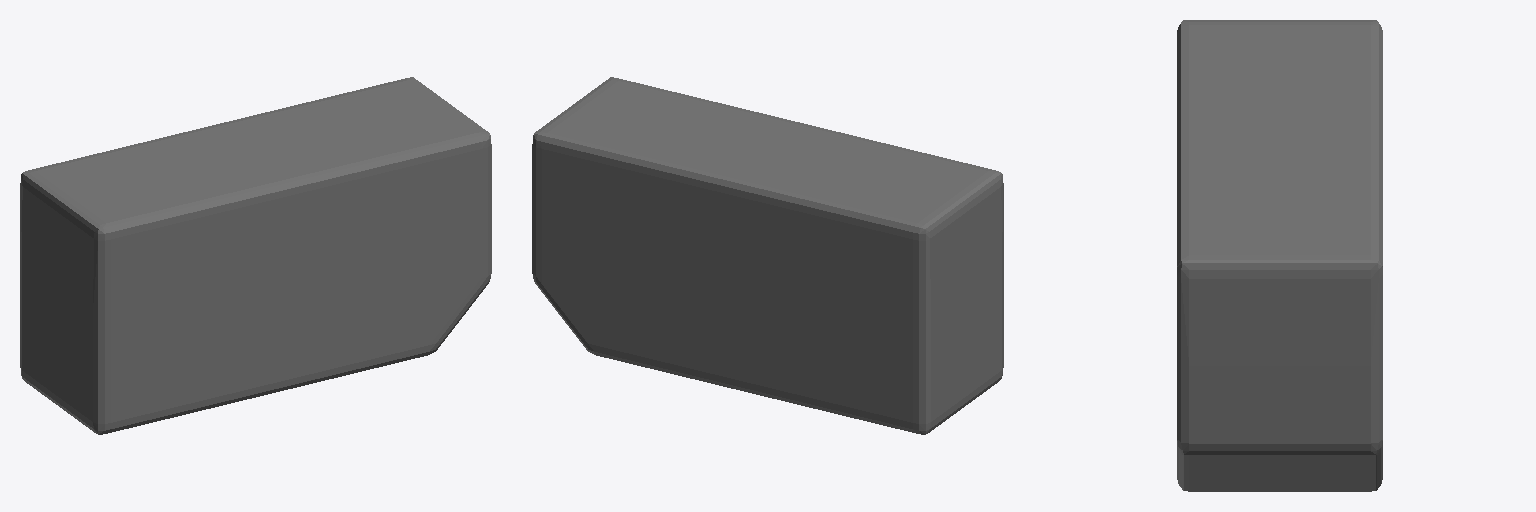
robot.urdf — wsg_50:
<?xml version="1.0"?>
<!-- source: https://github.com/nalt/wsg50-ros-pkg/tree/master/wsg_50_simulation -->
<robot name="wsg_50">

  <!-- BASE LINK -->
  <link name="base_link">
    <inertial>
      <mass value="1.2" />
      <origin xyz="0 0 0" />
      <inertia  ixx="1.0" ixy="0.0"  ixz="0.0"  iyy="1.0"  iyz="0.0"  izz="1.0" />
    </inertial>

    <visual>
      <origin xyz="0.0 0 0" rpy="0 0 0" />
      <geometry>
        <mesh filename="./meshes/WSG50_110.obj" scale="1 1 1"/>
      </geometry>
      <material name="grey">
        <color rgba="0.5 0.5 0.5 1"/>
      </material>
    </visual>

    <collision>
      <origin xyz="0.0 0 0" rpy="0 0 0" />
      <geometry>
        <mesh filename="./meshes/WSG50_110.obj" scale="1 1 1"/>
      </geometry>
    </collision>
  </link>

  <!-- GRIPPER LEFT -->

  <joint name="base_joint_gripper_left" type="prismatic">
    <limit lower="-0.055" upper="-0.0027" effort="1.0" velocity="1.0"/>
    <origin xyz="0 0 0" rpy="0 0 0" />      <!--origin xyz="-0.0067 0 0.049" rpy="0 0 0" /-->
    <parent link="base_link"/>
    <child link="gripper_left" />
    <dynamics friction="100" damping="100" />
    <axis xyz="1 0 0"/>
    <!-- <limit effort="100" velocity="100"/> -->
  </joint>

  <link name="gripper_left">
    <inertial>
      <mass value="0.1" />
      <origin xyz="0 0 0" />
      <inertia ixx="1.0" ixy="0.0" ixz="0.0"
                iyy="1.0" iyz="0.0" 
                izz="1.0" />
    </inertial>

    <visual>
      <origin xyz="0.0 0 0" rpy="0 0 0" />
      <geometry>
        <mesh filename="./meshes/GUIDE_WSG50_110.obj" scale="0.001 0.001 0.001"/>
      </geometry>
      <material name="black">
        <color rgba="0 0 0 0"/>
      </material>
    </visual>

    <collision>
      <origin xyz="0 0 0" rpy="0 0 0" />
      <geometry>
        <mesh filename="./meshes/GUIDE_WSG50_110.obj" scale="0.001 0.001 0.001"/>
      </geometry>
    </collision>
  </link>

  <!-- LEFT FINGER -->

  <joint name="guide_joint_finger_left" type="fixed">
    <origin xyz="0 0 0.023" rpy="0 0 0" />
    <parent link="gripper_left"/>
    <child link="finger_left" />
    <dynamics friction="100" damping="100" />
    <axis xyz="1 0 0"/>
    <!-- <limit effort="100" velocity="100"/> -->
  </joint>

  <link name="finger_left">
    <inertial>
      <mass value="0.1" />
      <origin xyz="0 0 0" />
      <inertia ixx="1.0" ixy="0.0" ixz="0.0"
                iyy="1.0" iyz="0.0" 
                izz="1.0" />
    </inertial>

    <visual>
      <origin xyz="0.0 0 0" rpy="0 0 0" />
      <geometry>
        <mesh filename="./meshes/WSG-FMF.obj" scale="0.001 0.001 0.001"/>
      </geometry>
      <material name="black">
        <color rgba="0 0 0 0"/>
      </material>
    </visual>

    <collision>
      <origin xyz="0 0 0" rpy="0 0 0" />
      <geometry>
        <mesh filename="./meshes/WSG-FMF.obj" scale="0.001 0.001 0.001"/>
      </geometry>
    </collision>
  </link>

  <!-- GRIPPER RIGHT -->

  <joint name="base_joint_gripper_right" type="prismatic">
     <limit lower="0.0027" upper="0.055" effort="1.0" velocity="1.0"/>
     <origin xyz="0 0 0" rpy="0 0 3.14159" />
     <parent link="base_link"/>
     <child link="gripper_right" />
     <axis xyz="-1 0 0"/>
     <dynamics friction="100" damping="100" />
     <!-- <limit effort="100" velocity="100"/> -->
  </joint>
	
  <link name="gripper_right">
    <inertial>
      <mass value="0.1" />
      <origin xyz="0 0 0" />
      <inertia ixx="1.0" ixy="0.0" ixz="0.0"
              iyy="1.0" iyz="0.0" 
              izz="1.0" />
    </inertial>

    <visual>
      <origin xyz="0.0 0 0" rpy="0 0 0" />
      <geometry>
        <mesh filename="./meshes/GUIDE_WSG50_110.obj" scale="0.001 0.001 0.001"/>
      </geometry>
      <material name="black">
        <color rgba="0 0 0 0"/>
      </material>
    </visual>

    <collision>
      <origin xyz="0 0 0" rpy="0 0 0" />
      <geometry>
        <mesh filename="./meshes/GUIDE_WSG50_110.obj" scale="0.001 0.001 0.001"/>
      </geometry>
    </collision>
  </link>

  <!-- RIGHT FINGER -->

  <joint name="guide_joint_finger_right" type="fixed">
    <origin xyz="0 0 0.023" rpy="0 0 0" />
    <parent link="gripper_right"/>
    <child link="finger_right" />
    <dynamics friction="100" damping="100" />
    <axis xyz="1 0 0"/>
    <!-- <limit effort="100" velocity="100"/> -->
  </joint>

  <link name="finger_right">
    <inertial>
      <mass value="0.1" />
      <origin xyz="0 0 0" />
      <inertia ixx="1.0" ixy="0.0" ixz="0.0"
                iyy="1.0" iyz="0.0" 
                izz="1.0" />
    </inertial>

    <visual>
      <origin xyz="0.0 0 0" rpy="0 0 0" />
      <geometry>
        <mesh filename="./meshes/WSG-FMF.obj" scale="0.001 0.001 0.001"/>
      </geometry>
      <material name="black">
        <color rgba="0 0 0 0"/>
      </material>
    </visual>

    <collision>
      <origin xyz="0 0 0" rpy="0 0 0" />
      <geometry>
        <mesh filename="./meshes/WSG-FMF.obj" scale="0.001 0.001 0.001"/>
      </geometry>
    </collision>
  </link>

</robot>

--- Render facts (derived) ---
3 views of the same robot in one strip: view 1: azimuth 30°, elevation 25°; view 2: azimuth 150°, elevation 25°; view 3: azimuth 270°, elevation 25° (orthographic).
Model wsg_50 with 5 links and 4 joints (2 prismatic, 2 fixed), rooted at base_link, posed joints at zero except 2 at the middle of their limits (base_joint_gripper_left = -0.0289, base_joint_gripper_right = 0.0289).
Links seen in each view (by area): view 1: base_link; view 2: base_link; view 3: base_link.
Link boxes in pixels (x1,y1,x2,y2): base_link: (20,77,491,434); base_link: (532,77,1003,434); base_link: (1177,20,1382,491).
Bounding box of the posed robot: 0.1486 × 0.0527 × 0.0749 m (x, y, z).
Meshes: 3 distinct files referenced, 5 mesh visuals loaded (3 OBJ).